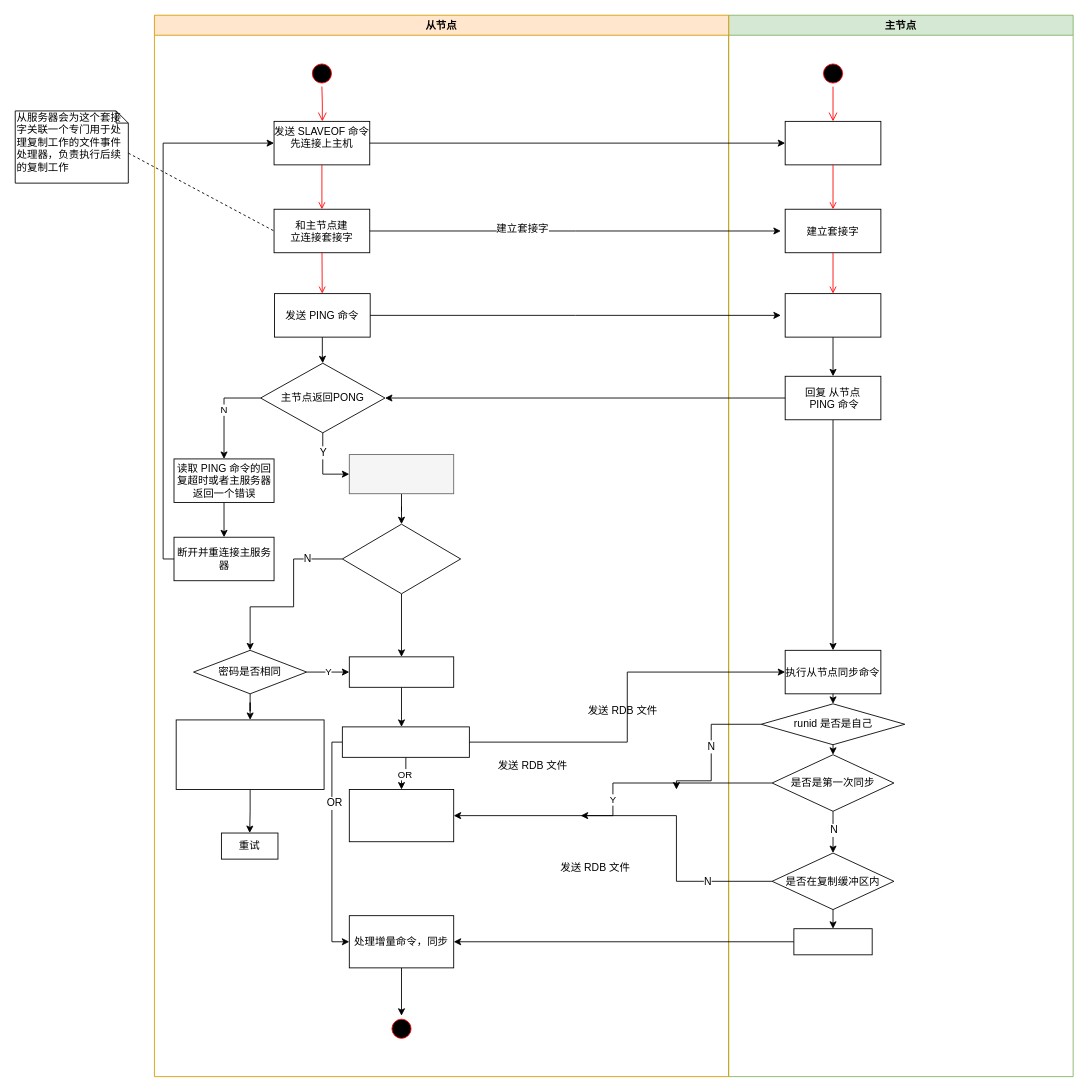
Image size: 1088x1092. Some labels were removed from this diagram. Each missing label, with the box of its shape:
1.主从服务器设置了不同的密码 2.主服务器设置了密码但从服务器没有设置密码 3.主服务器没有设置密码，但从服务器设置了密码: (175, 719, 324, 790)
flushall 当前服务器，将 RDB 落盘，加载RDB文件: (348, 789, 454, 842)
主从服务器都 没有设置密码: (341, 523, 461, 594)
发送PSYNC 同步 psync <runid> <offset>: (341, 726, 469, 757)
发送增量命令: (793, 928, 872, 955)
发送端口信息: (348, 656, 454, 687)
响应从节点: (784, 293, 881, 337)
进入身份验证阶段: (348, 454, 454, 494)
连接从机: (784, 120, 881, 165)
